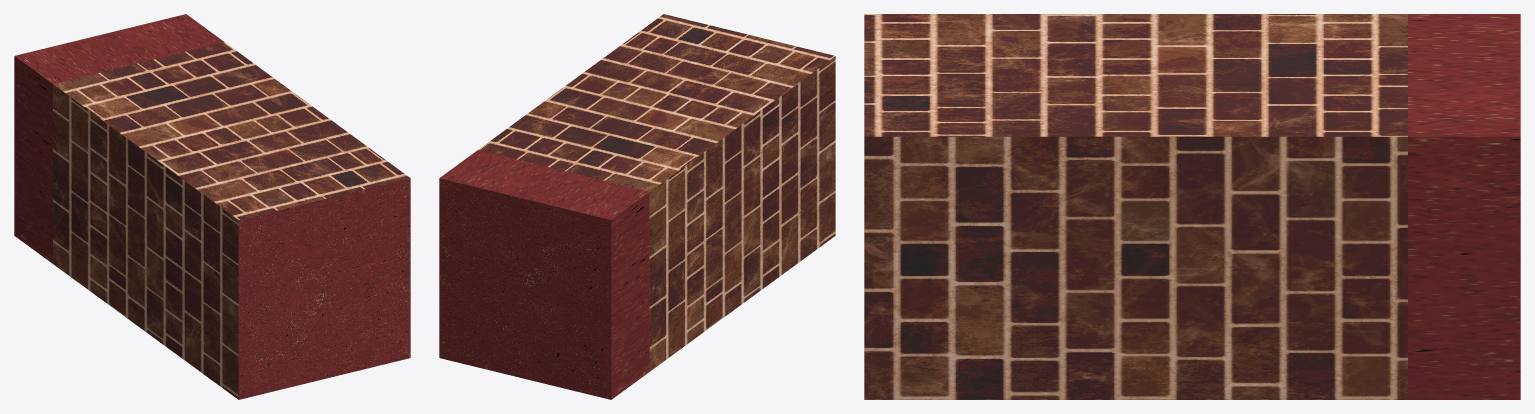
File: _Wall.fbx
The picture shows the model from 3 angles, left to right: view 1: azimuth 30°, elevation 25°; view 2: azimuth 150°, elevation 25°; view 3: azimuth 270°, elevation 25°; orthographic projection. The views are drawn at different scales.
Parts seen in each view (by area): view 1: wall.010; view 2: wall.010; view 3: wall.010.
Boxes of the visible parts, x1,y1,x2,y2 form: wall.010: [14, 14, 410, 399]; wall.010: [439, 14, 835, 399]; wall.010: [864, 14, 1520, 399].
Size of the model in its own units: 10000 by 10000 by 22604.
